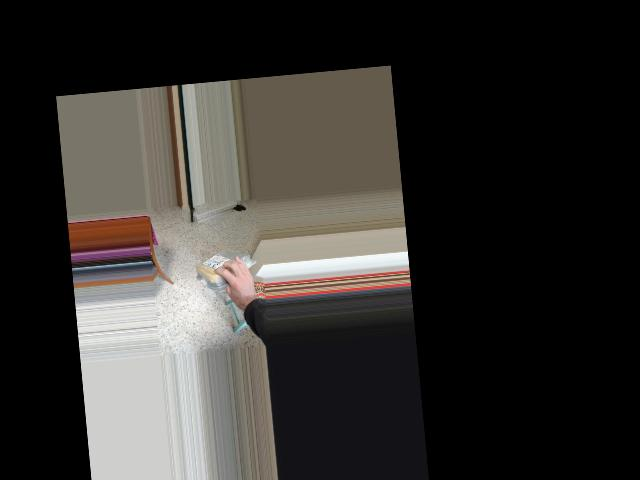cheese: (194, 249, 257, 285)
